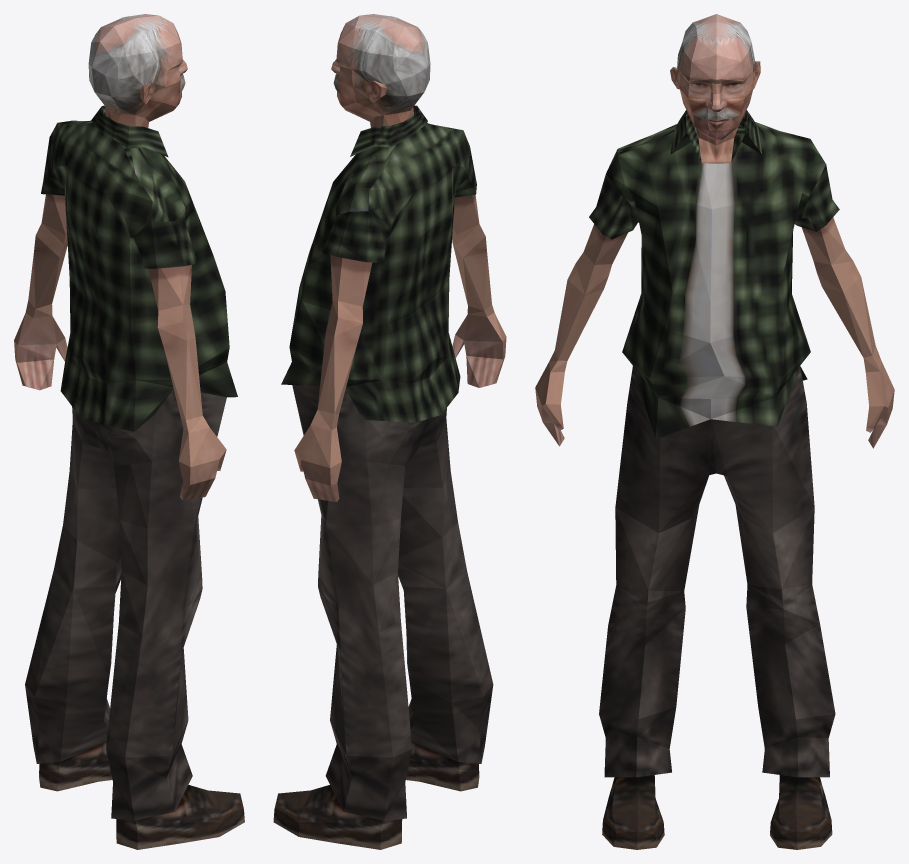
The model's file is swmost.obj.
The picture shows the model from 3 angles, left to right: view 1: azimuth 30°, elevation 25°; view 2: azimuth 150°, elevation 25°; view 3: azimuth 270°, elevation 25°; orthographic projection.
Parts seen in each view (by area): view 1: _Pelvis; view 2: _Pelvis; view 3: _Pelvis.
Part boxes in pixels (left/top/right/bottom): _Pelvis: left=14, top=14, right=244, bottom=849; _Pelvis: left=273, top=14, right=506, bottom=849; _Pelvis: left=535, top=14, right=894, bottom=849.
Size of the model in its own units: 0.3302 by 1.7 by 0.6912.
1 material, 1 textured.
